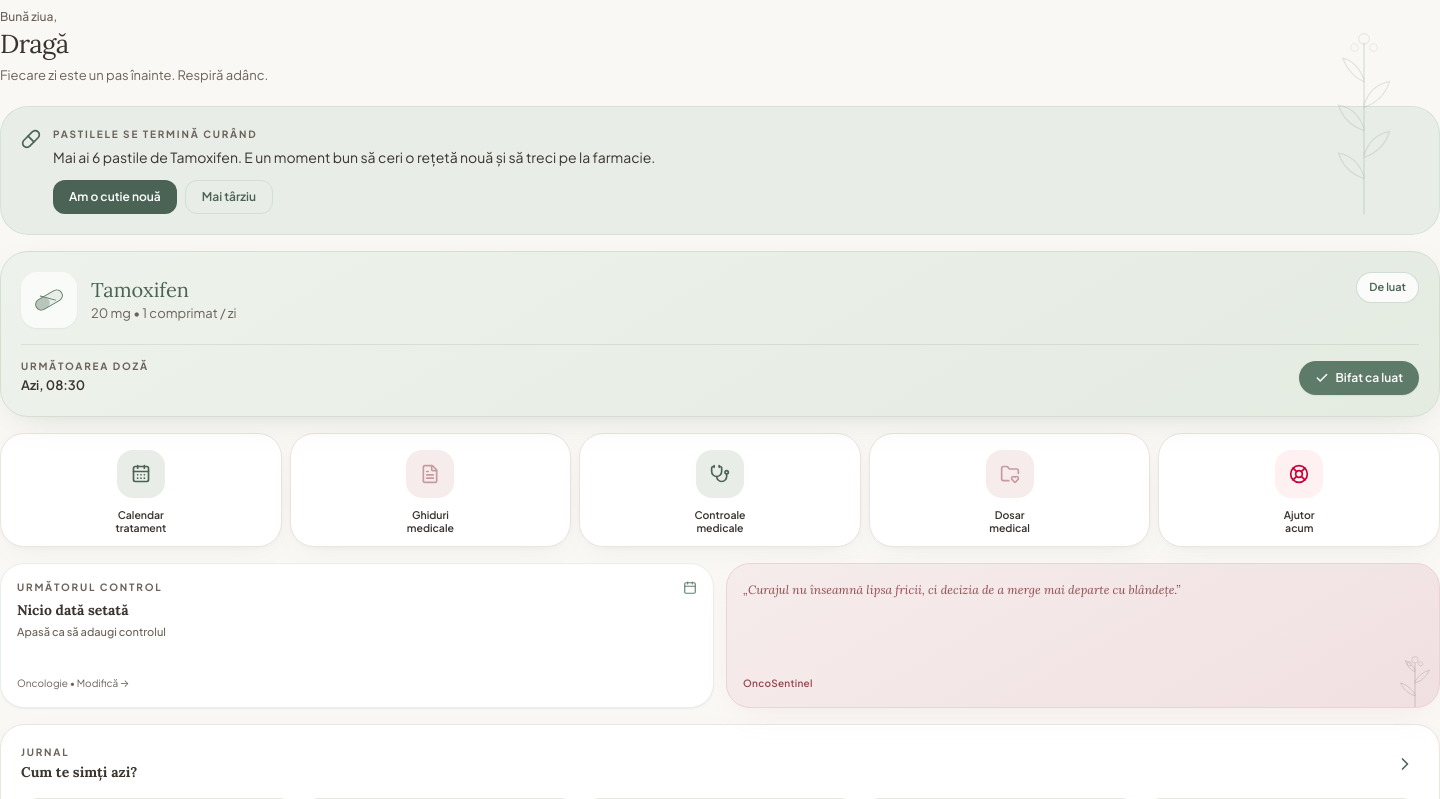
Test: Pe Astăzi › „Anulează” închide fereastra fără să schimbe stocul
Click the button "Am o cutie nouă": {"x": 115, "y": 197} [53,180,177,214]
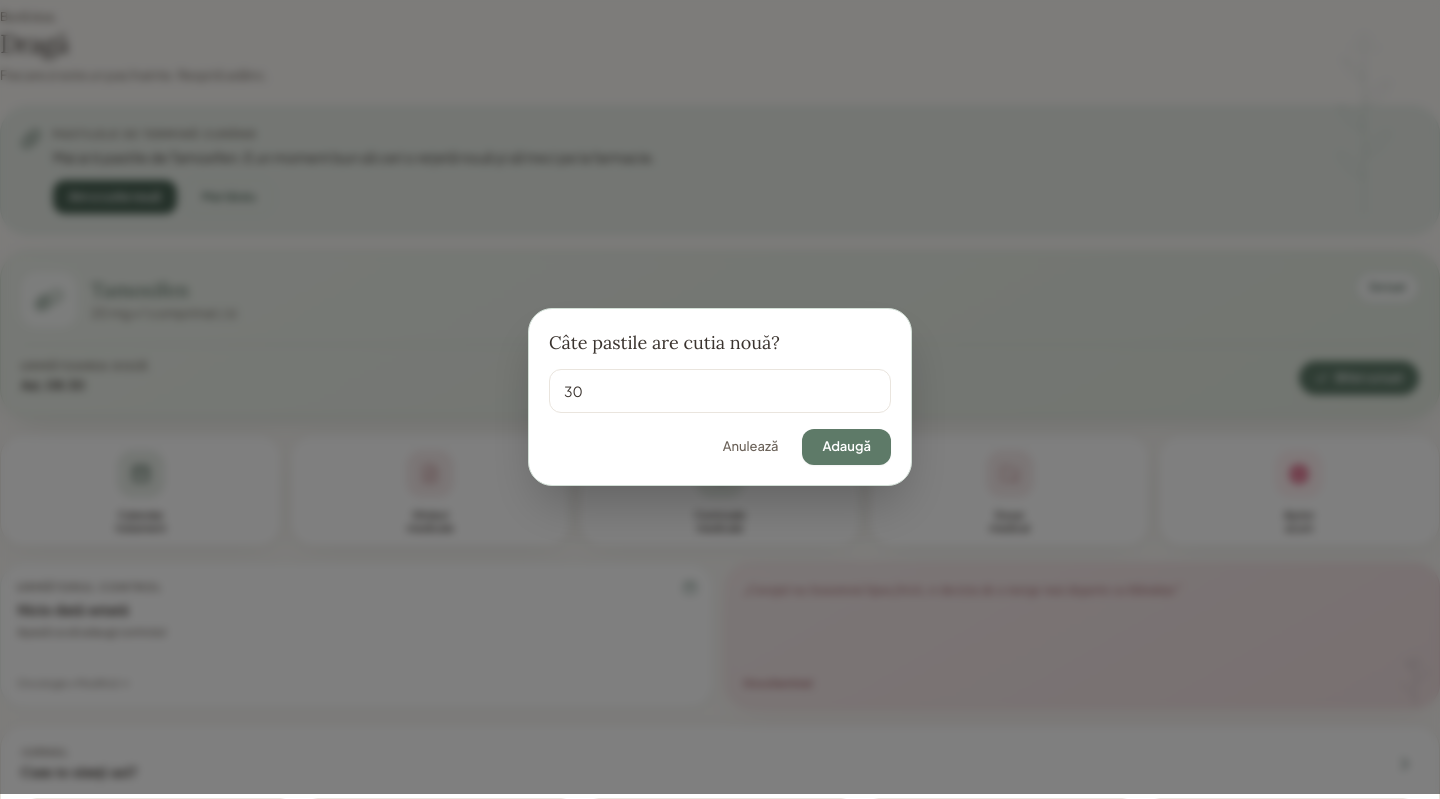
Click the button "Anulează": {"x": 751, "y": 447} [707,429,794,465]
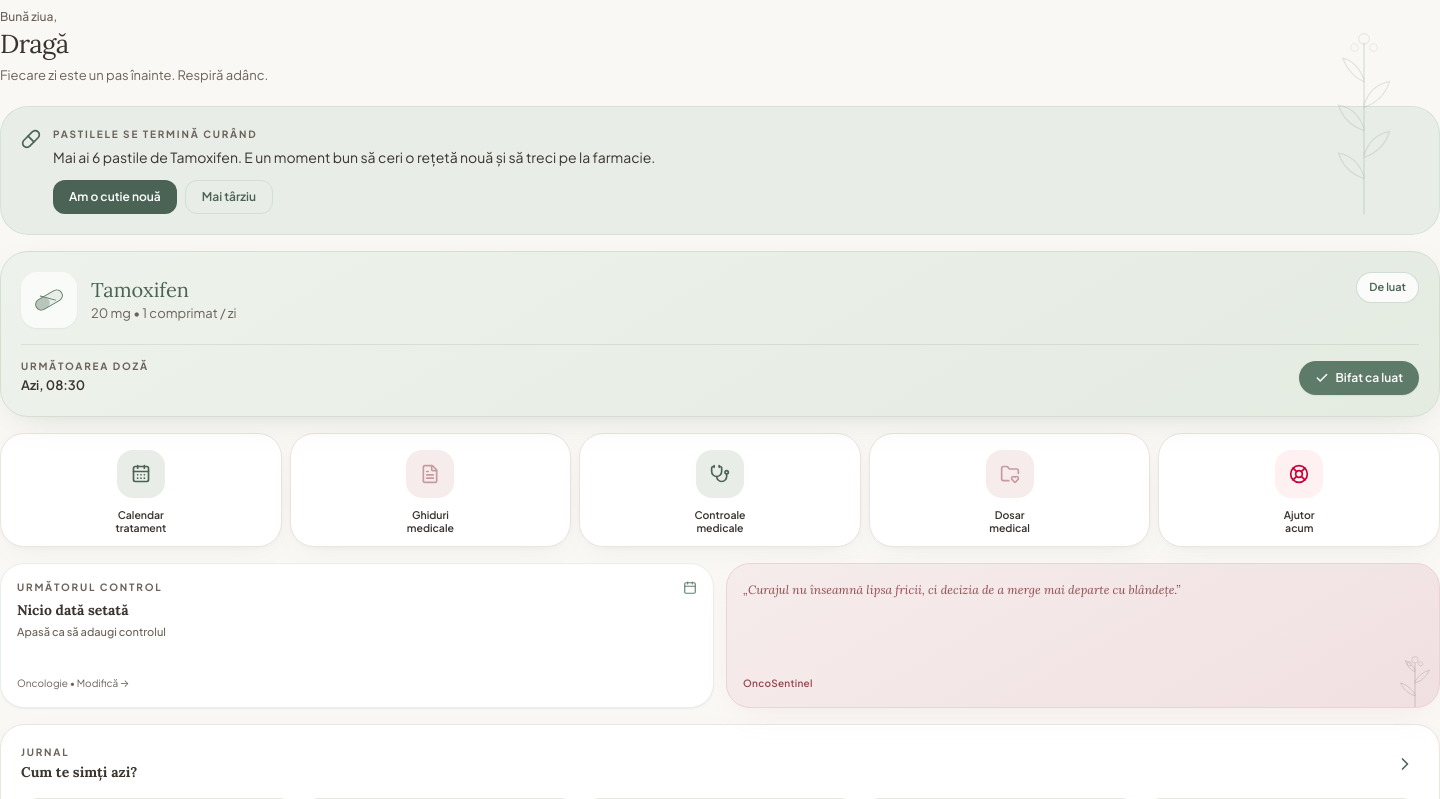
Expected: the dialog is gone
